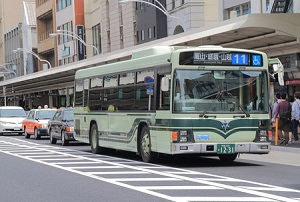destination: (193, 51, 250, 65)
